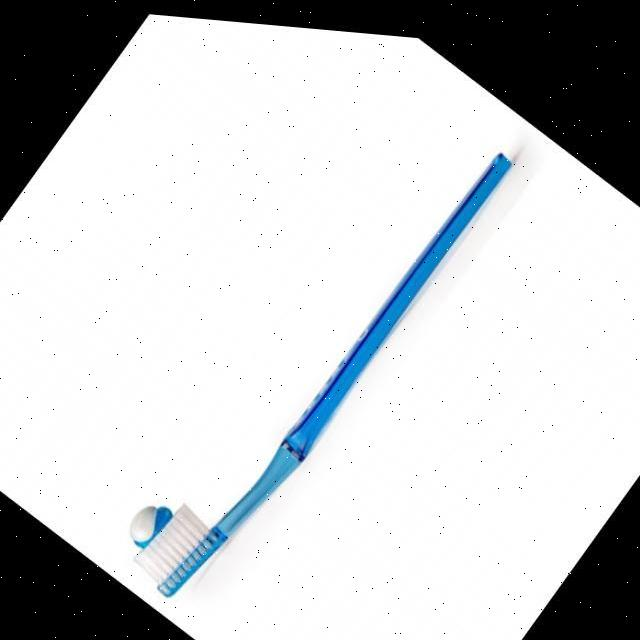toothbrush: (103, 50, 541, 640)
